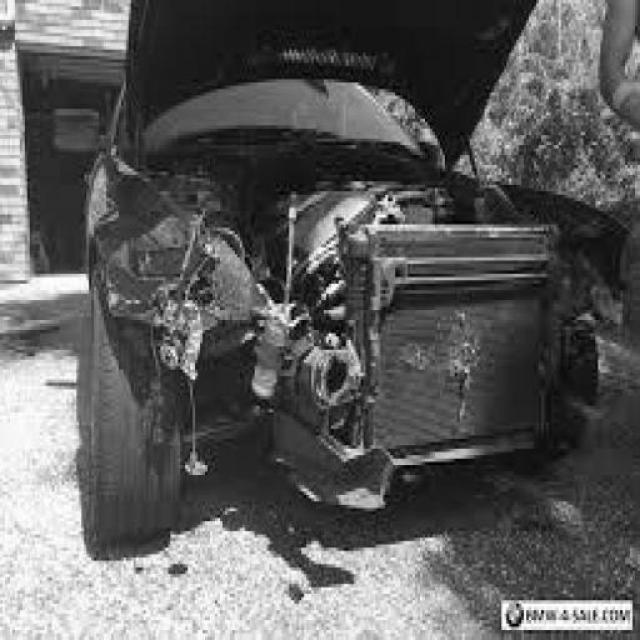crush: (119, 152, 635, 510)
